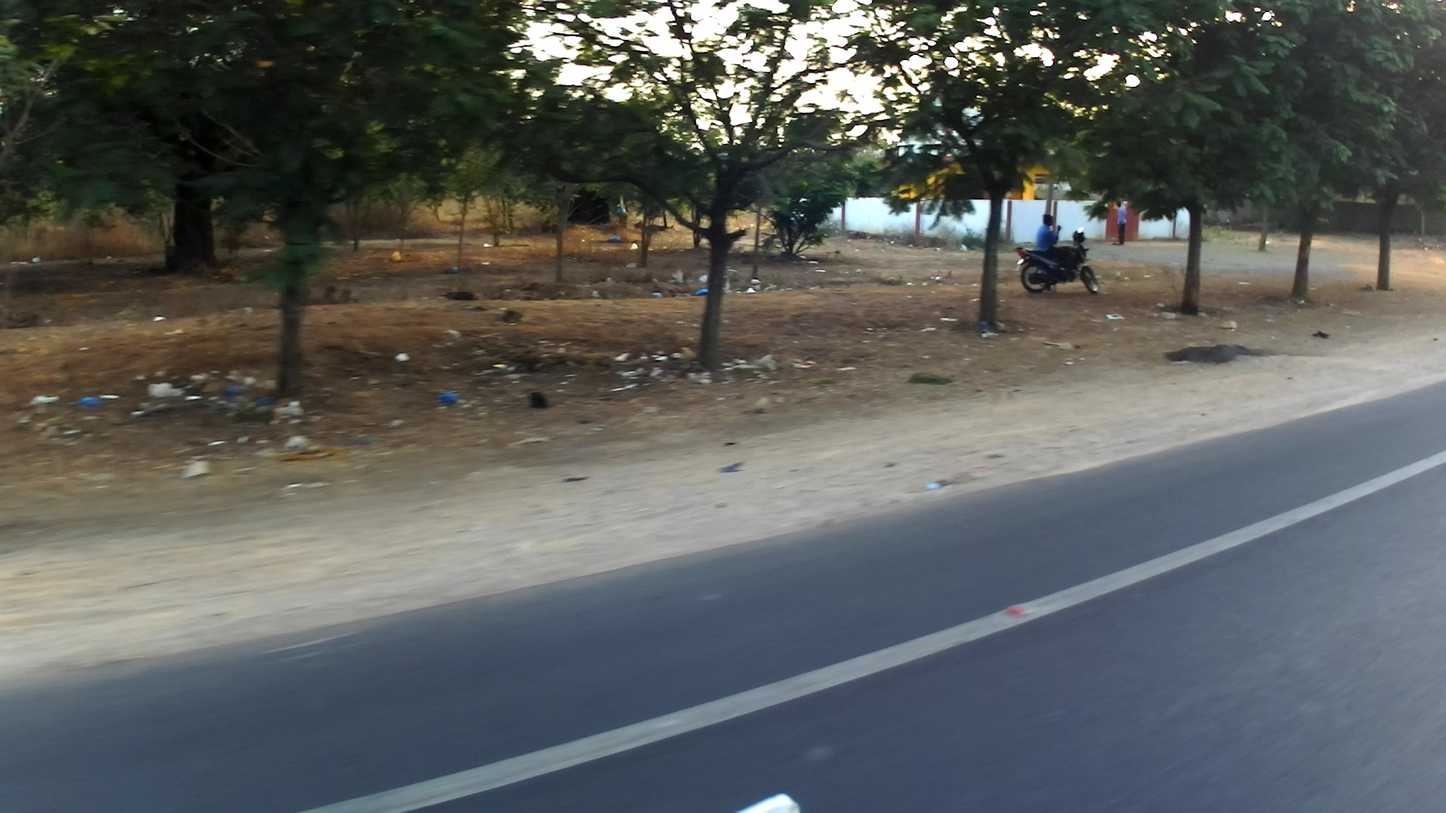motorcycle: (1014, 231, 1100, 299)
person: (1110, 200, 1130, 246)
rider: (1036, 213, 1075, 278)
vehicle fallback: (888, 145, 1056, 208)
